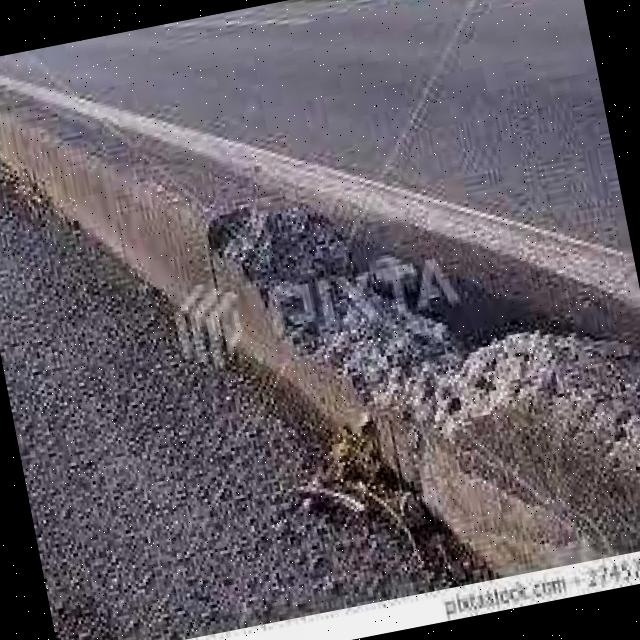curb: (324, 233, 640, 594), (96, 119, 350, 439), (1, 60, 125, 263)
